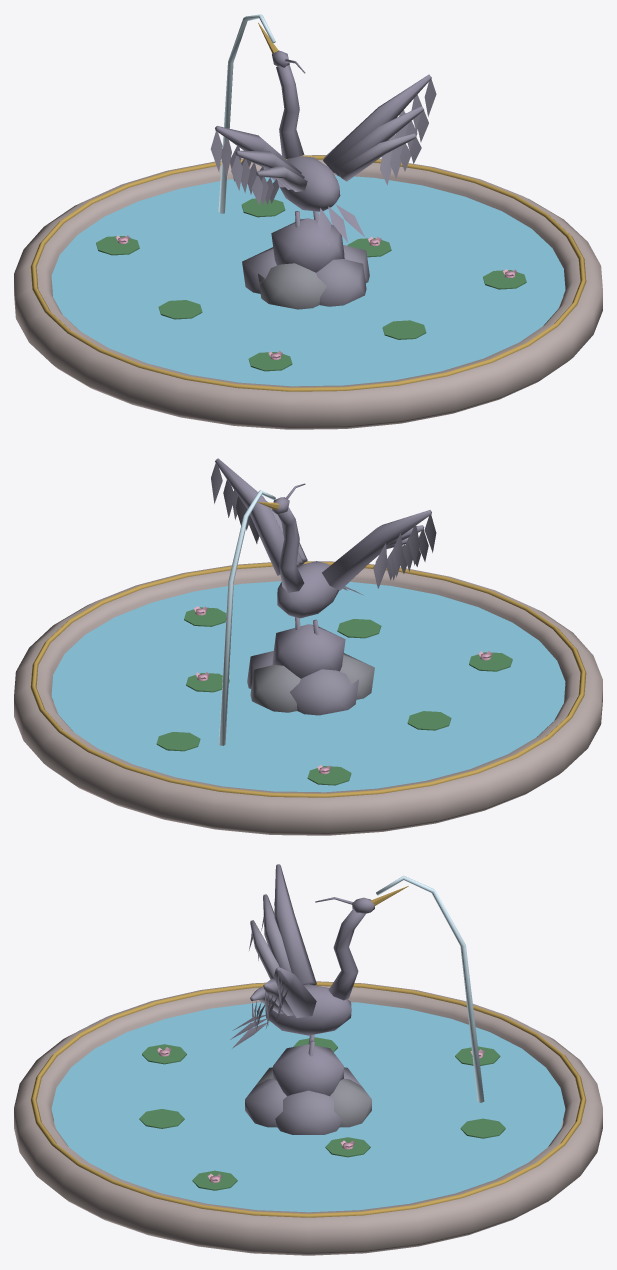
The model's file is heron_fountain.glb.
3 views of the same model, one above another, from view 1: azimuth 30°, elevation 25°; view 2: azimuth 150°, elevation 25°; view 3: azimuth 270°, elevation 25° (orthographic).
Parts seen in each view (by area): view 1: heron_fountain; view 2: heron_fountain; view 3: heron_fountain.
Part boxes in pixels (<box>): heron_fountain: <box>14,14,602,429</box>; heron_fountain: <box>14,458,602,835</box>; heron_fountain: <box>14,864,602,1255</box>.
Size of what is drawn, in the model's own units: 9.9 by 4.8 by 9.9.
